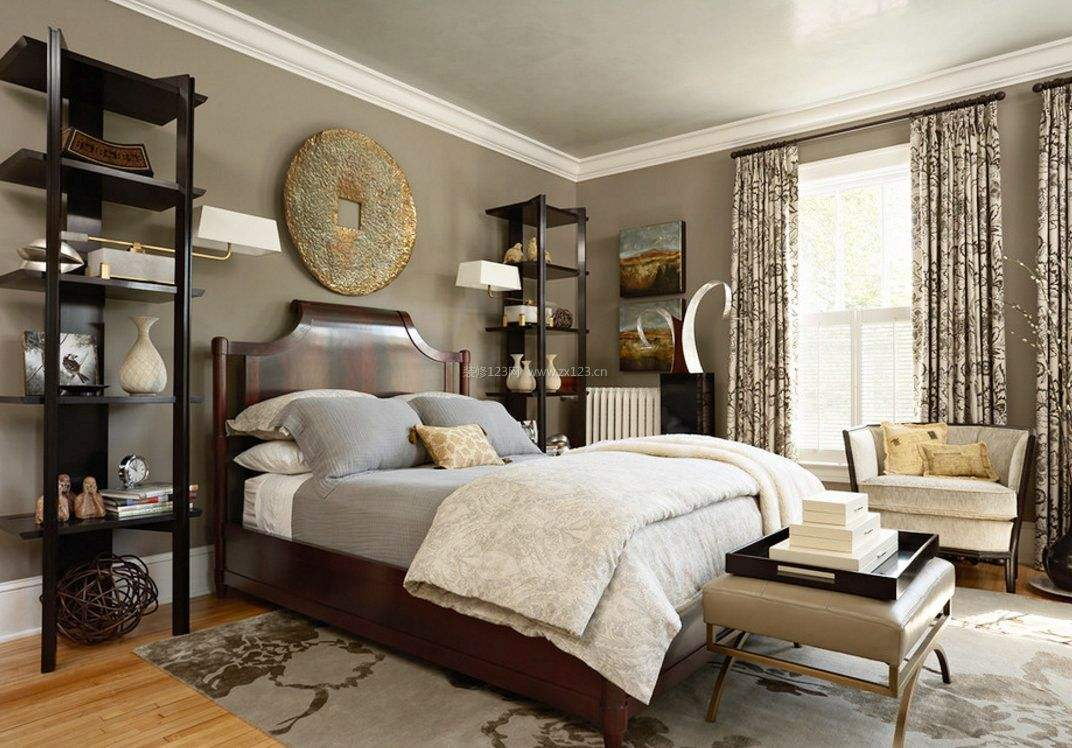床: (261, 444, 818, 710)
枕头: (244, 387, 544, 479), (881, 426, 996, 487)
灯: (189, 206, 294, 269), (451, 258, 531, 316)
